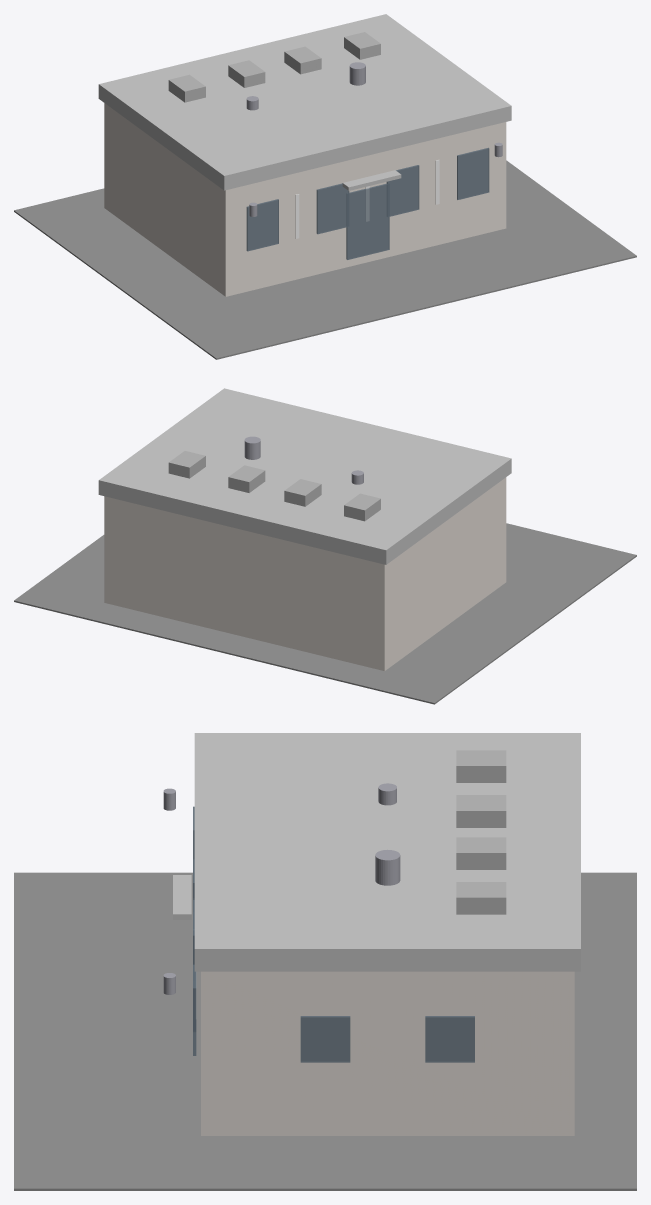
File: supermarket.fbx
The picture shows the model from 3 angles, top to bottom: view 1: azimuth 30°, elevation 25°; view 2: azimuth 150°, elevation 25°; view 3: azimuth 270°, elevation 25°; orthographic projection. The views are drawn at different scales.
Visible parts, largest first — view 1: Parking_Lot, Supermarket_Roof, Supermarket_Building, Entrance_Doors, Front_Window_4, Front_Window_2, Front_Window_1, Front_Window_3, HVAC_Unit_2, HVAC_Unit_3, HVAC_Unit_1, HVAC_Unit_4 (+1 smaller); view 2: Supermarket_Building, Supermarket_Roof, Parking_Lot, HVAC_Unit_4, HVAC_Unit_2, HVAC_Unit_3, HVAC_Unit_1; view 3: Parking_Lot, Supermarket_Roof, Supermarket_Building, Side_Window_1, Side_Window_2, HVAC_Unit_1, HVAC_Unit_2, HVAC_Unit_3, HVAC_Unit_4, Roof_Vent, Entrance_Canopy.
Part boxes in pixels (box(x1,y1,x2,y2)): Parking_Lot: box(14, 160, 636, 359); Supermarket_Roof: box(98, 14, 511, 190); Supermarket_Building: box(104, 103, 506, 296); Entrance_Doors: box(346, 183, 389, 259); Front_Window_4: box(457, 147, 489, 199); Front_Window_2: box(316, 183, 349, 234); Front_Window_1: box(246, 199, 278, 251); Front_Window_3: box(386, 165, 419, 216); HVAC_Unit_2: box(228, 60, 265, 87); HVAC_Unit_3: box(284, 46, 321, 74); HVAC_Unit_1: box(168, 74, 205, 102); HVAC_Unit_4: box(344, 32, 380, 59); Supermarket_Building: box(104, 477, 506, 671); Supermarket_Roof: box(98, 388, 511, 564); Parking_Lot: box(14, 523, 636, 704); HVAC_Unit_4: box(168, 451, 205, 478); HVAC_Unit_2: box(284, 479, 321, 506); HVAC_Unit_3: box(228, 465, 265, 492); HVAC_Unit_1: box(344, 493, 380, 521); Parking_Lot: box(14, 872, 636, 1190); Supermarket_Roof: box(194, 733, 580, 971); Supermarket_Building: box(201, 971, 574, 1135); Side_Window_1: box(300, 1016, 350, 1062); Side_Window_2: box(425, 1016, 474, 1062); HVAC_Unit_1: box(456, 750, 506, 782); HVAC_Unit_2: box(456, 795, 506, 827); HVAC_Unit_3: box(456, 837, 506, 869); HVAC_Unit_4: box(456, 882, 506, 914); Roof_Vent: box(375, 849, 400, 885); Entrance_Canopy: box(173, 875, 191, 919).
Size of the model in its own units: 1200 by 385 by 1000.
